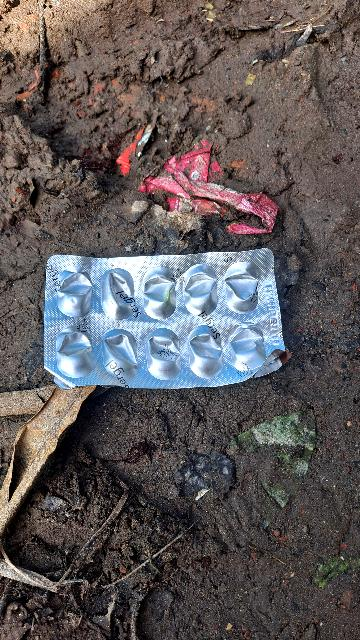medicine: (42, 235, 298, 389)
